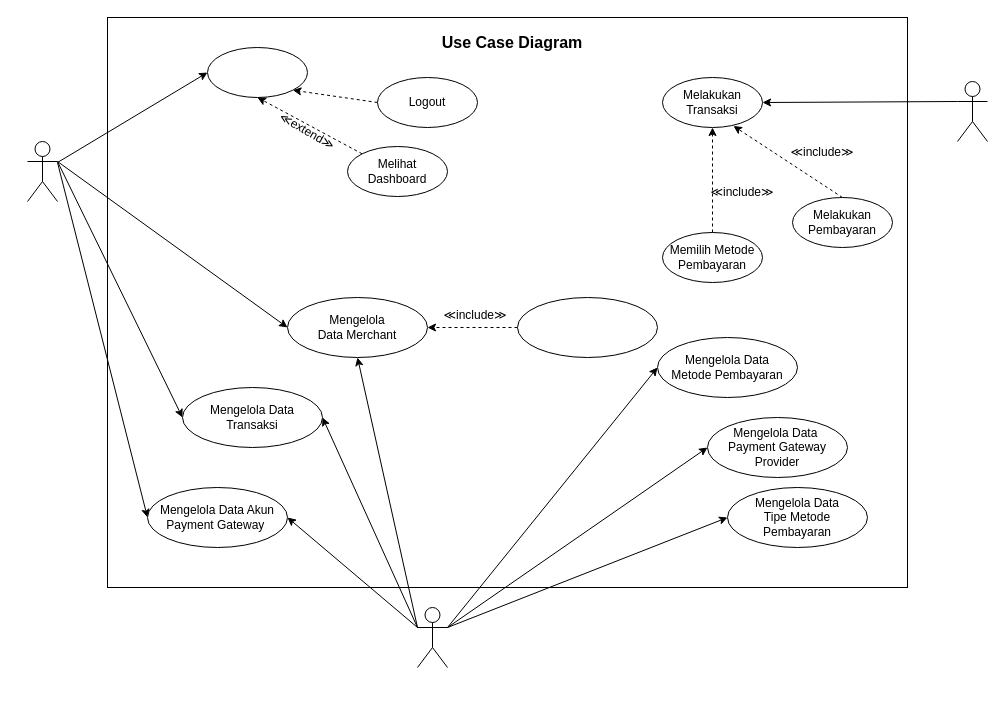
This 1005x706 diagram has some shape labels left out. The centre of each missing label's shape, as x and y in pixels:
"Admin" belongs at (432,637).
"Login" belongs at (257,72).
"Mengubah Metode Pembayaran" belongs at (587,327).
"Merchant" belongs at (42,171).
"User" belongs at (972,111).
